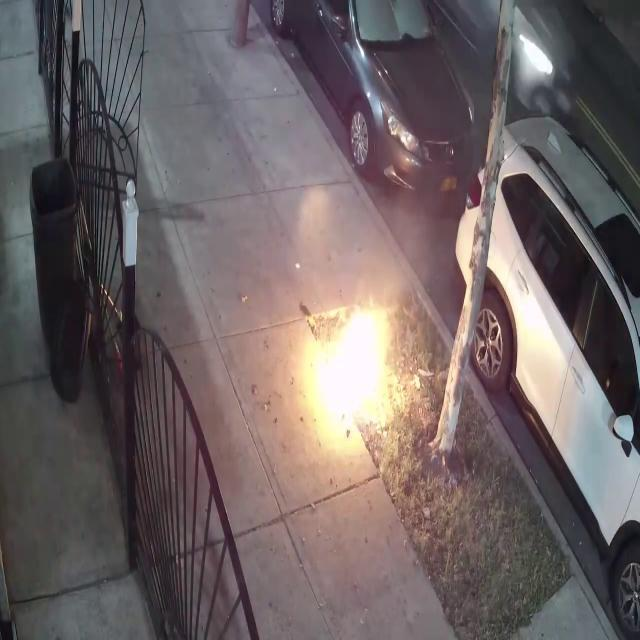Fire: (306, 292, 402, 452)
